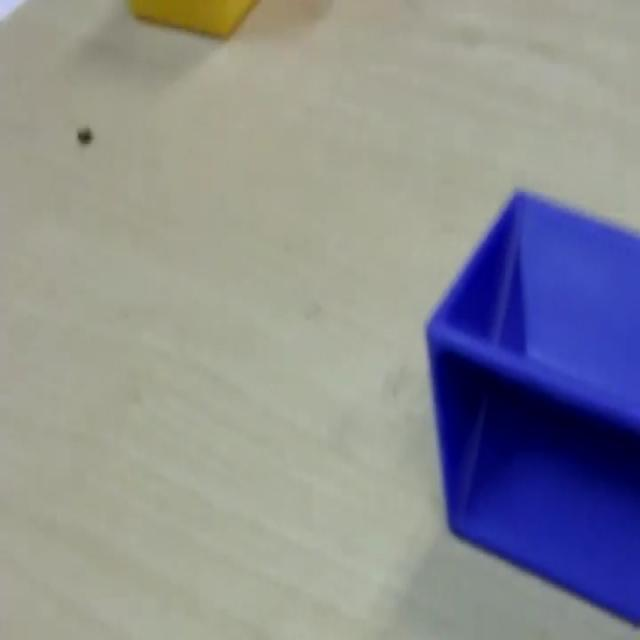blue_block: (424, 184, 638, 625)
yellow_block: (127, 0, 259, 39)
